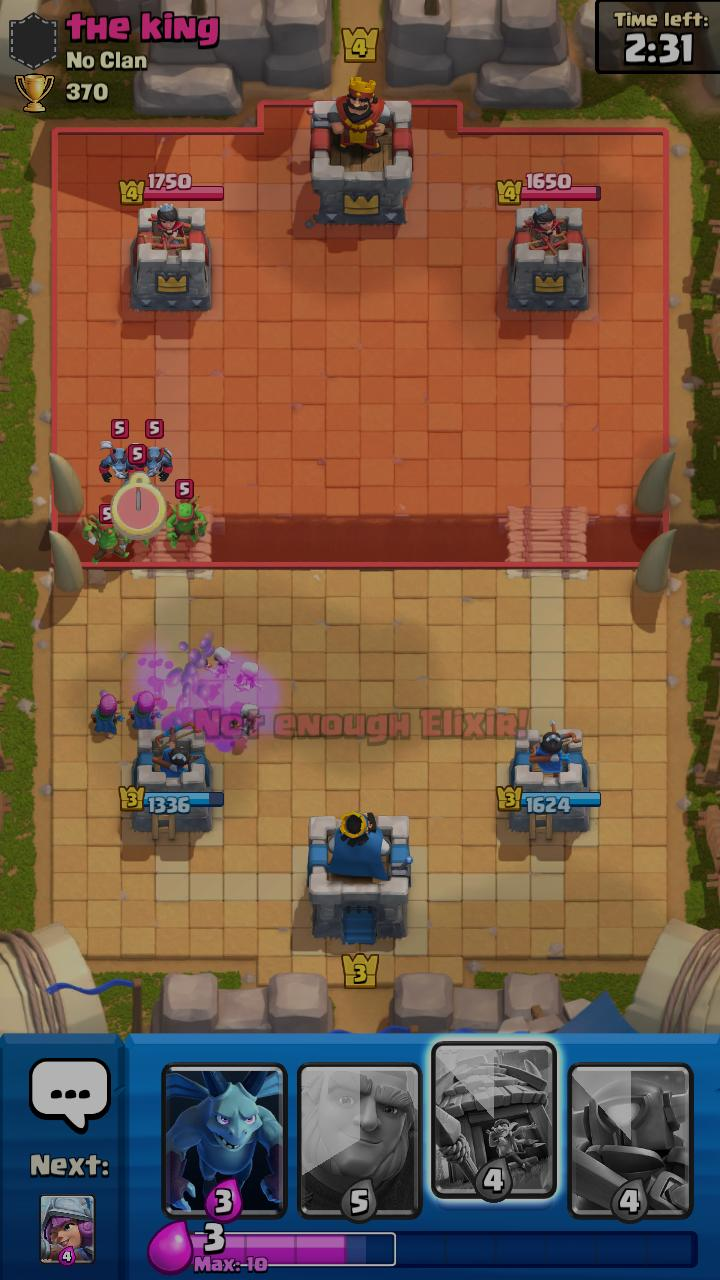ally: (90, 693, 125, 739), (129, 691, 163, 729), (204, 647, 235, 679), (231, 704, 260, 735), (234, 662, 263, 692)
enemy: (82, 503, 130, 564), (166, 479, 208, 548), (134, 419, 173, 481), (98, 419, 135, 483), (119, 443, 160, 490), (124, 536, 149, 546)
